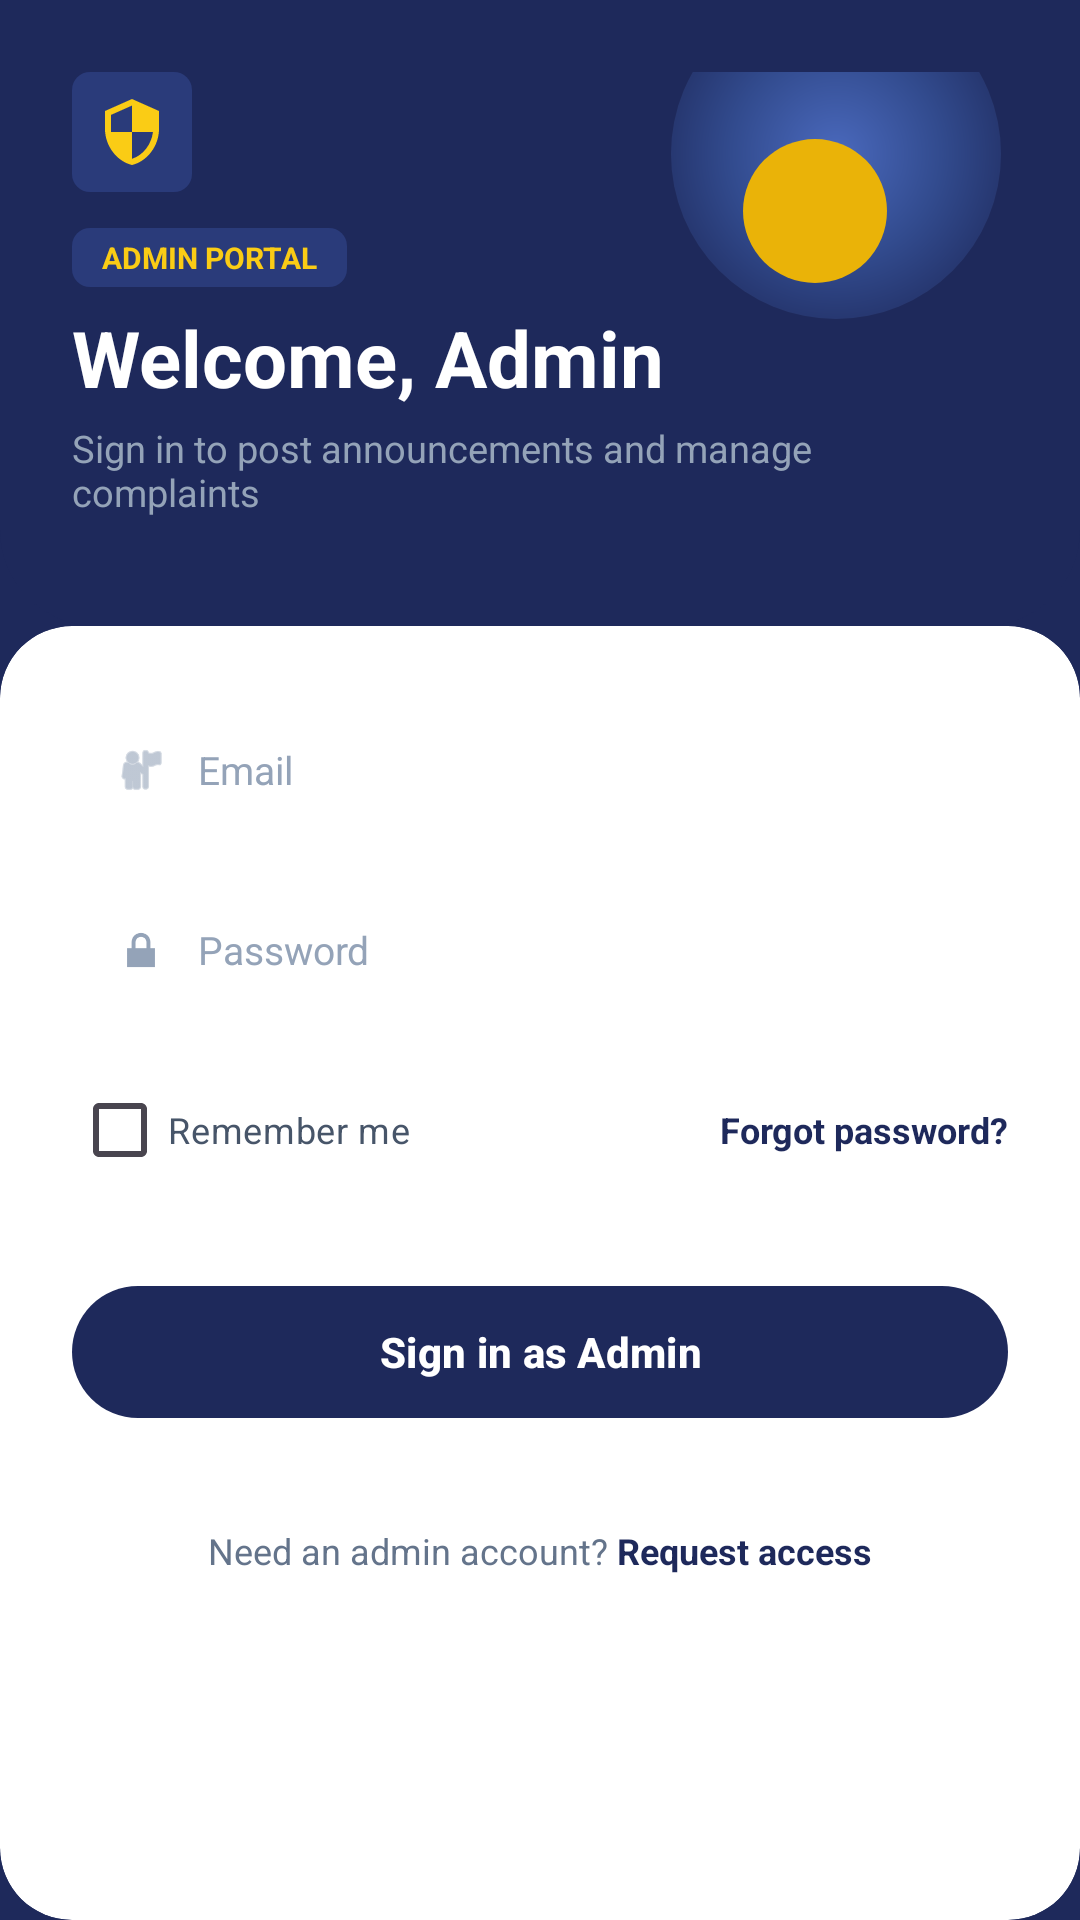

Locate icon controls on the screen. Image size 1080w x 1920h, boxes as (x1, y1, x2, y2).
Admin Shield Icon: (72, 72, 192, 192)
